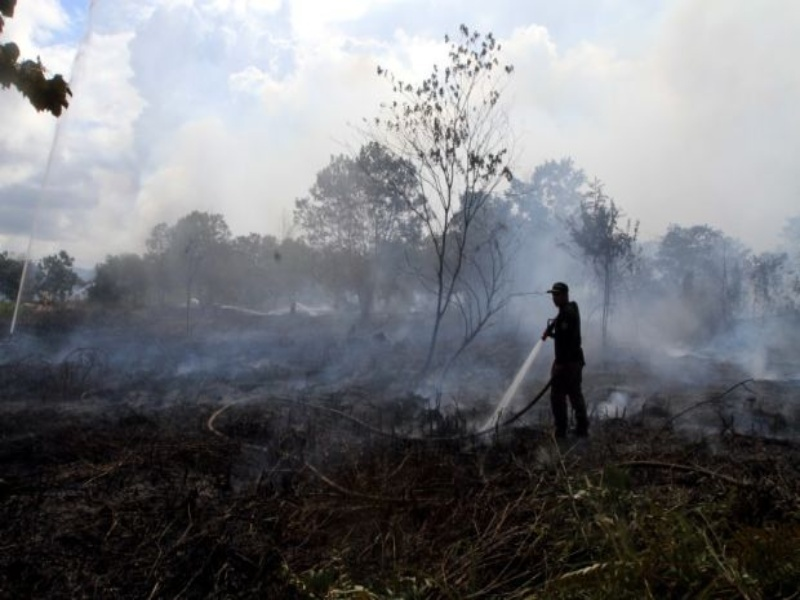smoke: (1, 212, 798, 427)
